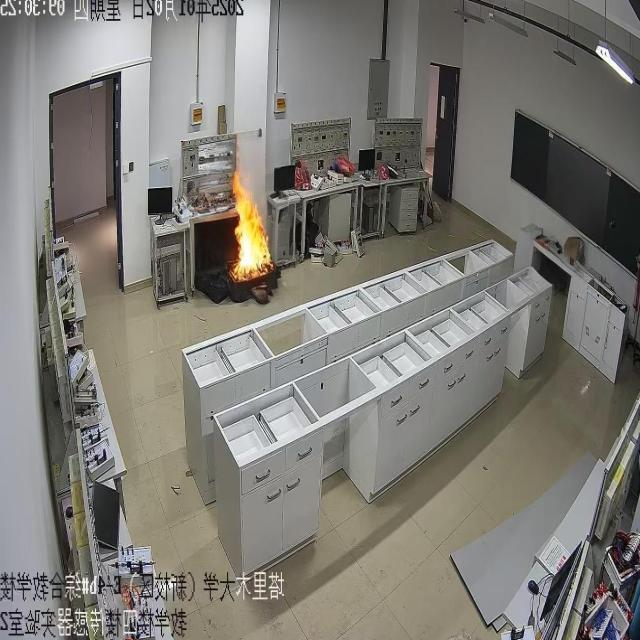smoke: (228, 146, 274, 284)
